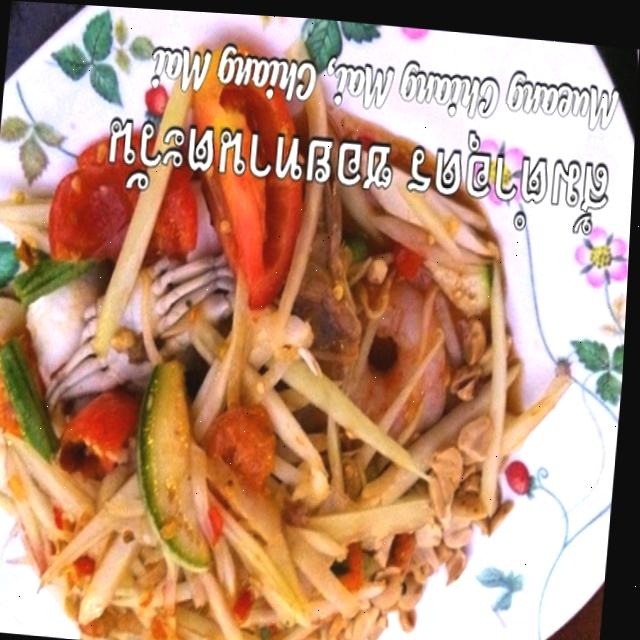蔬菜料理: (0, 30, 597, 640)
